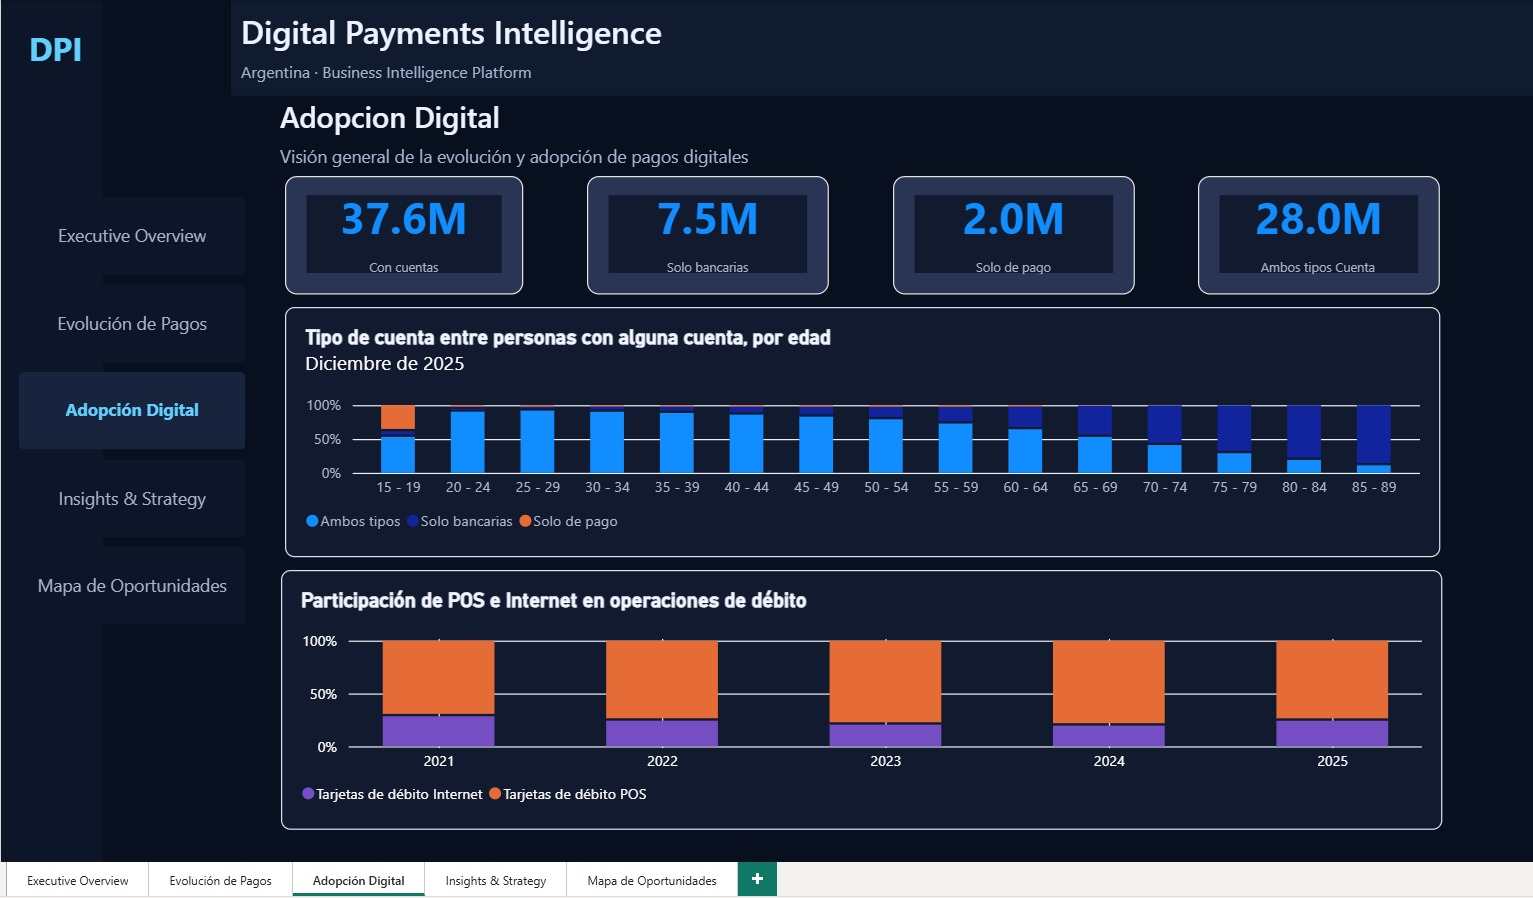

This screenshot's page, from the dashboard's own definition file:
{"tool":"powerbi","page":{"name":"Adopción Digital","canvas":[1280,720],"ordinal":2},"visuals":[{"type":"shape","box":[0,0,85,720],"z":0},{"type":"shape","box":[192.5,0,1088,80],"z":1000},{"type":"textbox","box":[200.1,7.8,391.6,45.7],"z":2000},{"type":"textbox","box":[200.1,50,261.3,30.2],"z":3000},{"type":"textbox","box":[23.3,21.6,93.2,56.9],"z":4000},{"type":"pageNavigator","box":[14.7,164.7,189.8,359.7],"z":5000},{"type":"textbox","box":[233.4,80.8,196.6,47.6],"z":6000},{"type":"textbox","box":[233.4,120.3,406.7,35.9],"z":7000},{"type":"advanceCardE03760C5AB684758B56AA29F9E6C257B","fields":{"mainMeasure":["Medidas.Personas_Con_Alguna_Cuenta"]},"box":[237.2,146.6,199.2,99.2],"z":8000},{"type":"advanceCardE03760C5AB684758B56AA29F9E6C257B","fields":{"mainMeasure":["Medidas.Personas_Solo_Cuenta_Bancaria"]},"box":[489.6,146.6,201.8,99.2],"z":9000},{"type":"advanceCardE03760C5AB684758B56AA29F9E6C257B","fields":{"mainMeasure":["Medidas.Personas_Solo_Cuenta_Pago"]},"box":[744.7,146.6,201.8,99.2],"z":10000},{"type":"advanceCardE03760C5AB684758B56AA29F9E6C257B","fields":{"mainMeasure":["Medidas.Personas_Ambos_Tipos_Cuenta"]},"box":[999.7,146.6,201.8,99.2],"z":11000},{"type":"hundredPercentStackedColumnChart","title":"Tipo de cuenta entre personas con alguna cuenta, por edad","fields":{"Category":["Dim_Rango_Etario.Rango_Etario"],"Series":["Dim_Tipo_Cuenta.Nombre_Corto"],"Y":["Medidas.Total_Tenencia_Cuentas"]},"box":[237.4,256.3,964.7,208.5],"z":12000},{"type":"hundredPercentStackedColumnChart","title":"Participación de POS e Internet en operaciones de débito","fields":{"Category":["Calendario.Año"],"Series":["Dim_Conformada.Nombre"],"Y":["Medidas.Total_Transacciones"]},"box":[233.6,476.1,969.7,217.3],"z":13000}]}

Visuals, with their boxes on the page's 1280x720 design canvas (x1, y1, x2, y2). These are canvas units, not pixel positions in the 1533x898 screenshot, which may show the page scaled, cropped or inside an application window:
shape: 0/0/85/720
shape: 192/0/1280/80
textbox: 200/8/592/54
textbox: 200/50/461/80
textbox: 23/22/116/78
pageNavigator: 15/165/204/524
textbox: 233/81/430/128
textbox: 233/120/640/156
advanceCardE03760C5AB684758B56AA29F9E6C257B - Medidas.Personas_Con_Alguna_Cuenta: 237/147/436/246
advanceCardE03760C5AB684758B56AA29F9E6C257B - Medidas.Personas_Solo_Cuenta_Bancaria: 490/147/691/246
advanceCardE03760C5AB684758B56AA29F9E6C257B - Medidas.Personas_Solo_Cuenta_Pago: 745/147/946/246
advanceCardE03760C5AB684758B56AA29F9E6C257B - Medidas.Personas_Ambos_Tipos_Cuenta: 1000/147/1202/246
"Tipo de cuenta entre personas con alguna cuenta, por edad" hundredPercentStackedColumnChart: 237/256/1202/465
"Participación de POS e Internet en operaciones de débito" hundredPercentStackedColumnChart: 234/476/1203/693
